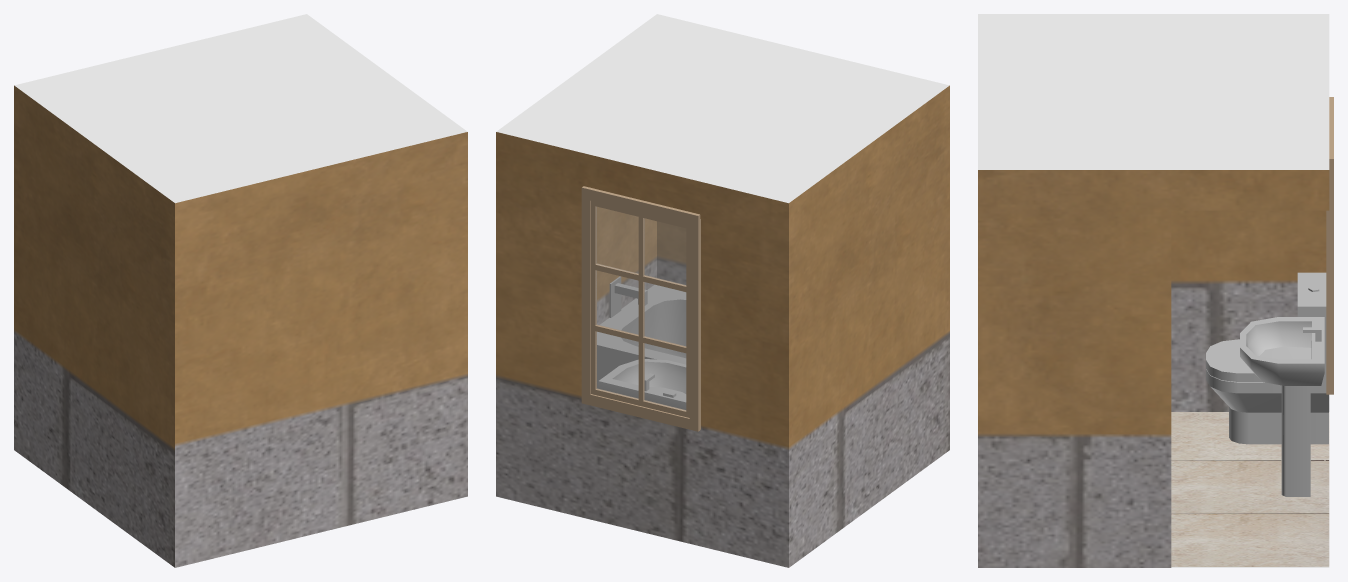
The model's file is toilet.fbx.
3 renders of one model, left to right at view 1: azimuth 30°, elevation 25°; view 2: azimuth 150°, elevation 25°; view 3: azimuth 270°, elevation 25°, orthographic. The views are drawn at different scales.
Visible parts, largest first — view 1: Cube; view 2: Cube, 16690_Sidelight_Casement_Window-Honey_V1, tub_low, sink_low.001, tap_low.001; view 3: Cube, sink_low.001, bowl_low, support_low, 16690_Sidelight_Casement_Window-Honey_V1, lid_low, tank_low.
Boxes of the visible parts, x1,y1,x2,y2 form: Cube: [14, 14, 467, 567]; Cube: [496, 14, 949, 567]; 16690_Sidelight_Casement_Window-Honey_V1: [581, 186, 700, 431]; tub_low: [597, 285, 686, 388]; sink_low.001: [598, 359, 686, 409]; tap_low.001: [609, 276, 647, 317]; Cube: [978, 14, 1329, 567]; sink_low.001: [1240, 317, 1324, 385]; bowl_low: [1206, 369, 1328, 444]; support_low: [1281, 385, 1310, 496]; 16690_Sidelight_Casement_Window-Honey_V1: [1326, 97, 1333, 394]; lid_low: [1206, 339, 1262, 381]; tank_low: [1297, 272, 1326, 382].
Size of the model in its own units: 1050 by 1250 by 1013.
